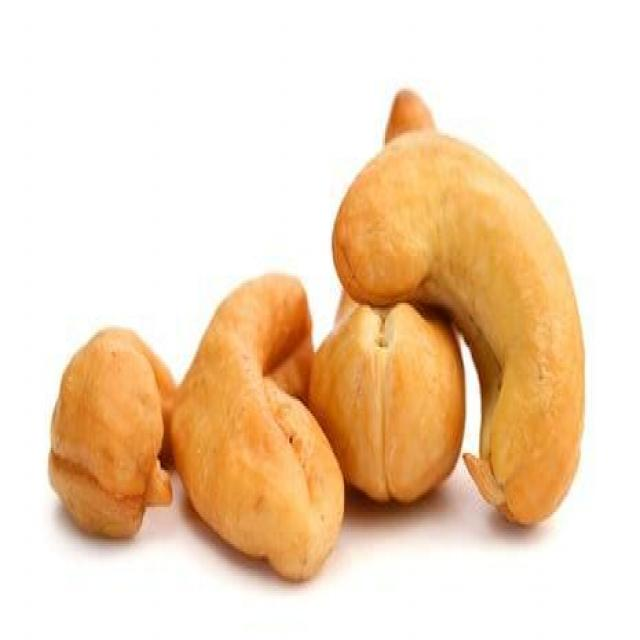Cashew: (467, 136, 602, 546), (188, 257, 316, 601), (34, 279, 170, 581), (334, 313, 463, 477)
